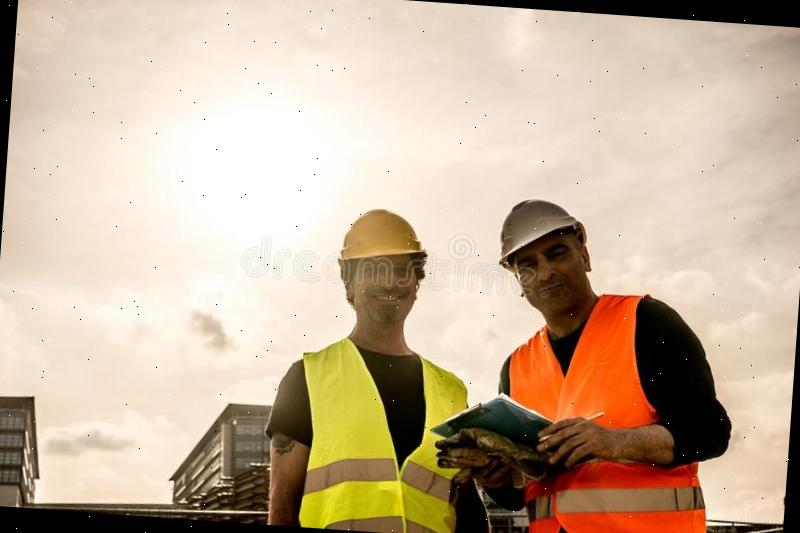helmet: (494, 192, 593, 272), (336, 204, 432, 272)
wear: (496, 316, 723, 533), (288, 344, 470, 533)
